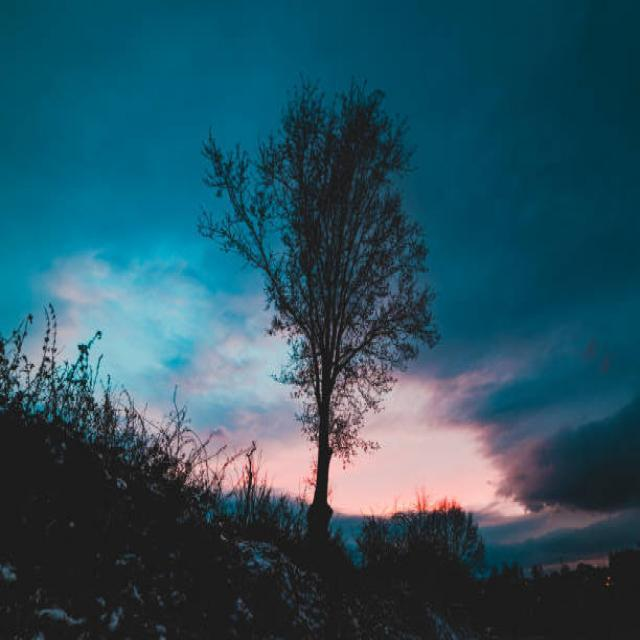tree: (208, 61, 448, 542)
